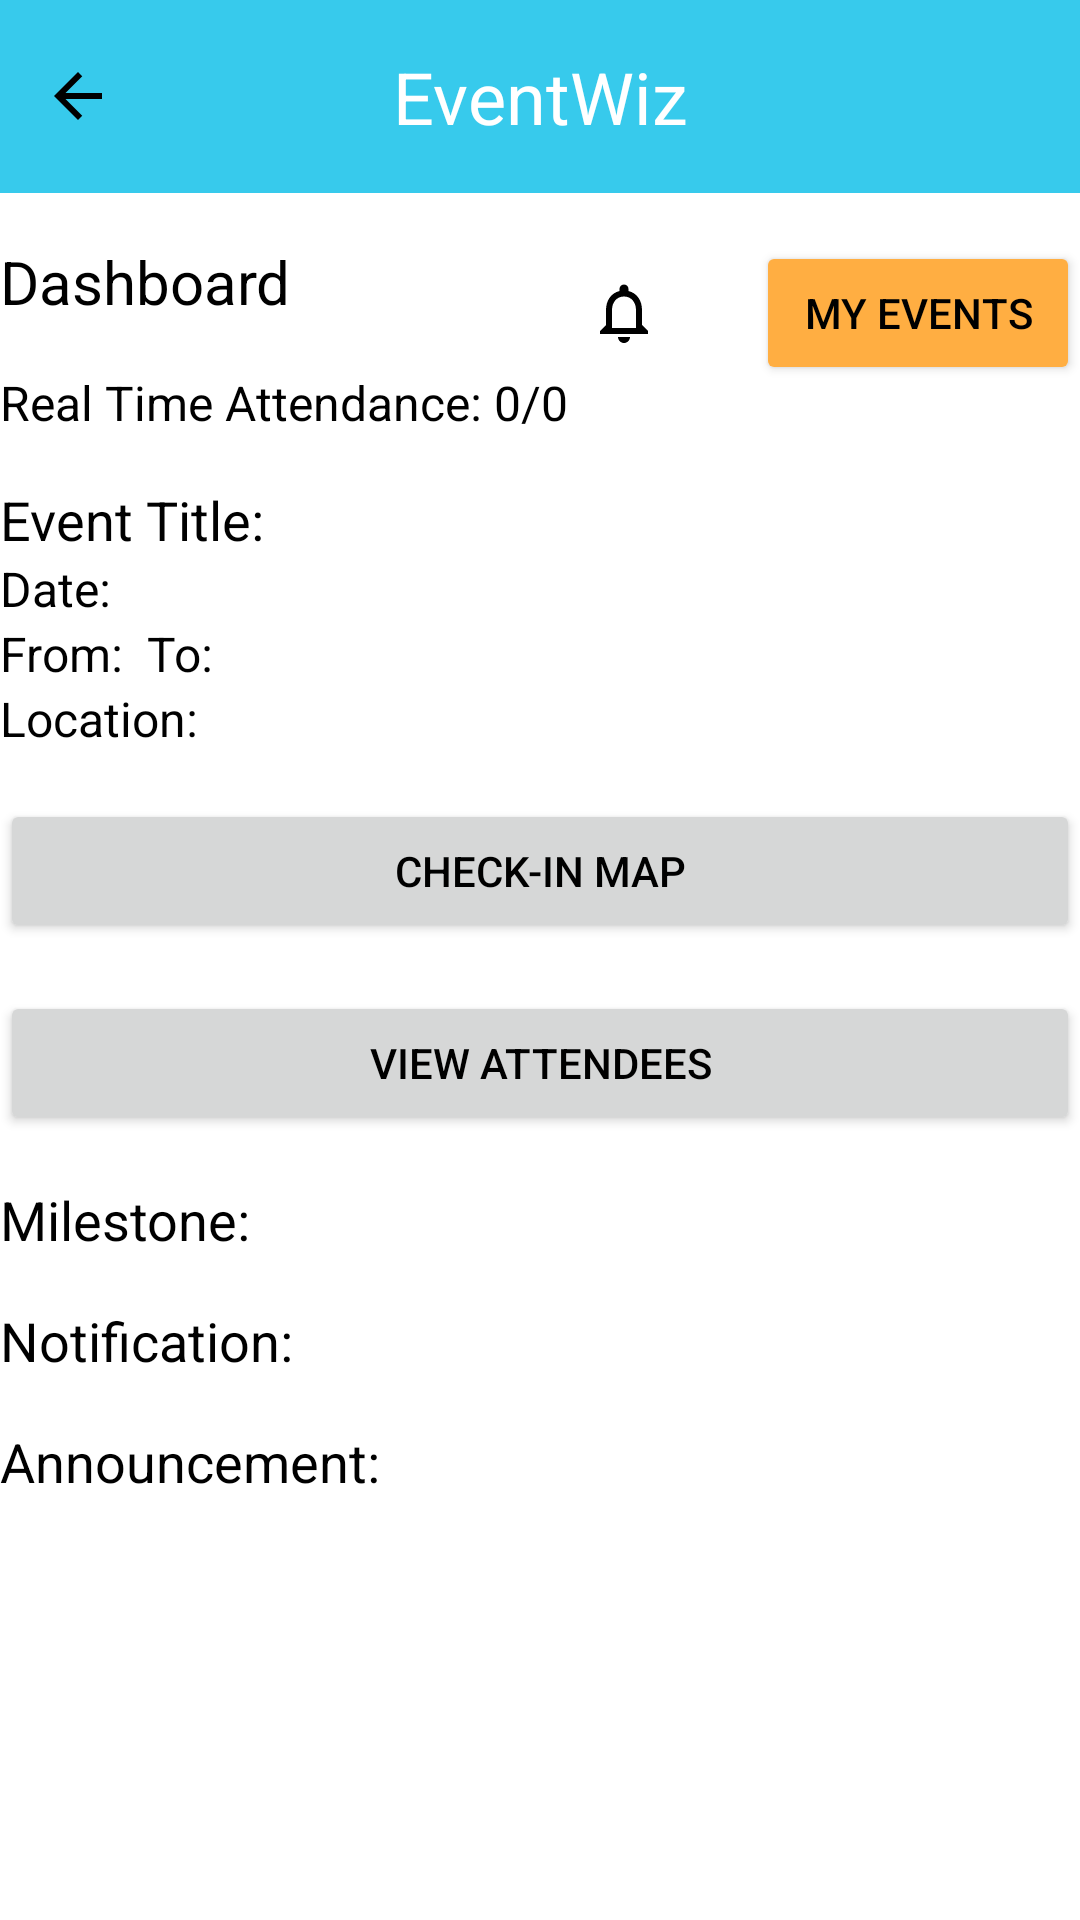

Where to tap for icons on this 1080px x 1920px app screen, as point (x, y):
go back to previous page: point (78, 96)
notify: point (624, 313)
